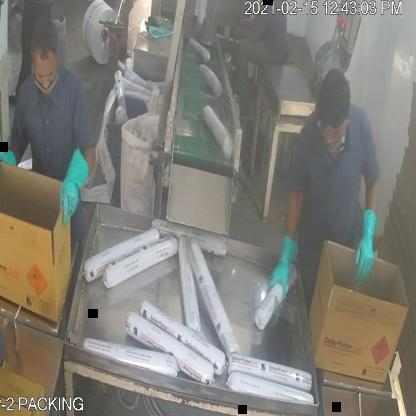glove: (352, 199, 386, 291), (264, 230, 303, 308), (58, 150, 90, 228)
no_glove: (227, 18, 262, 46)
